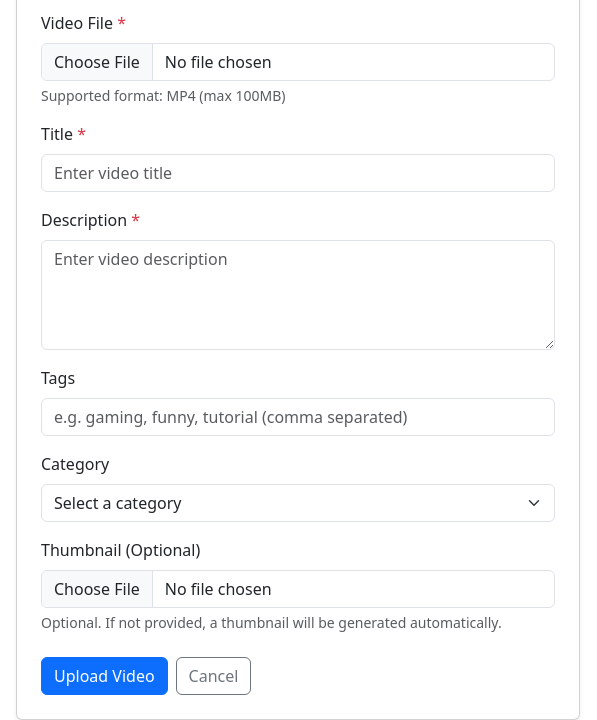
UploadPage › displays validation errors when submitting an empty form
(page scrolled)
Click the button "Upload Video": click(104, 676) x1=41 y1=657 x2=168 y2=695
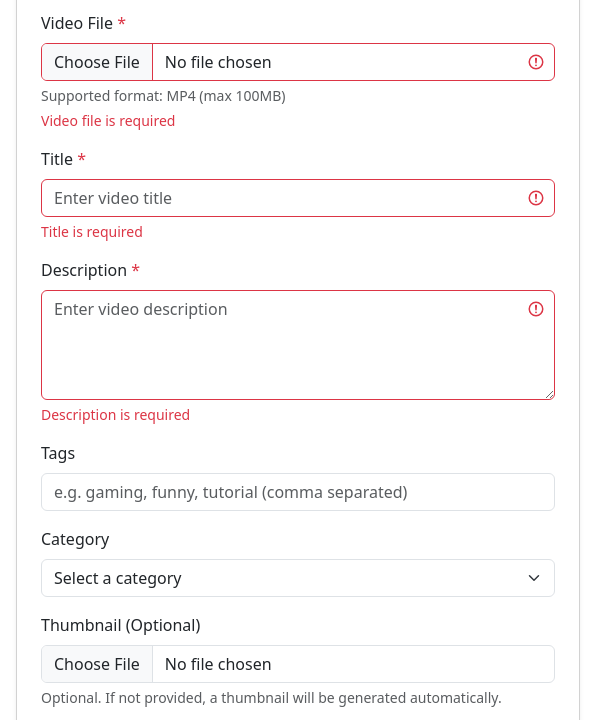
expect the text "Video file is required" is shown: met, box x1=41 y1=111 x2=176 y2=130
expect the text "Title is required" is shown: met, box x1=41 y1=222 x2=143 y2=241
expect the text "Description is required" is shown: met, box x1=41 y1=405 x2=190 y2=424
